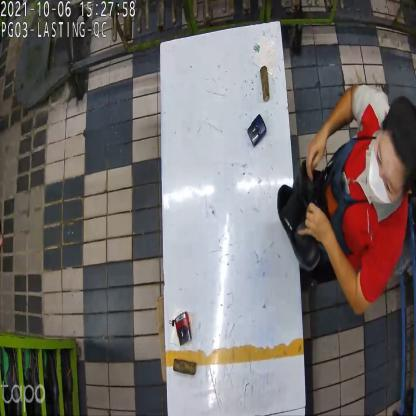shoes: (278, 159, 325, 271)
stamp: (172, 314, 196, 346), (248, 112, 268, 146)
